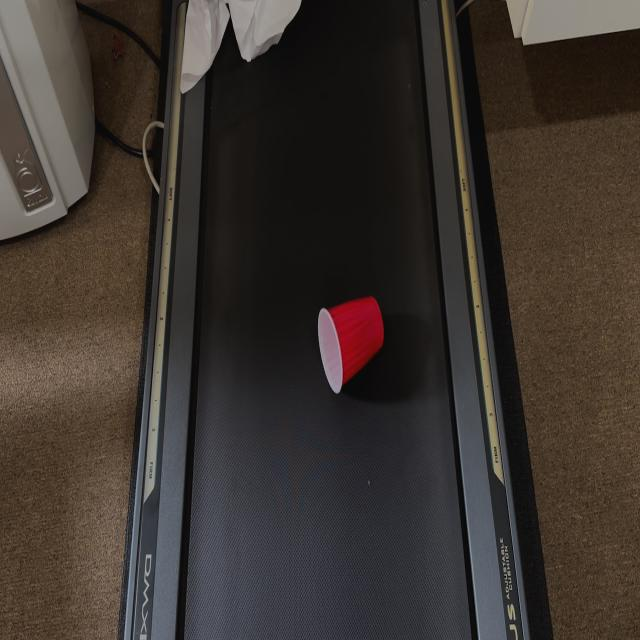Recycle: (315, 291, 386, 398)
